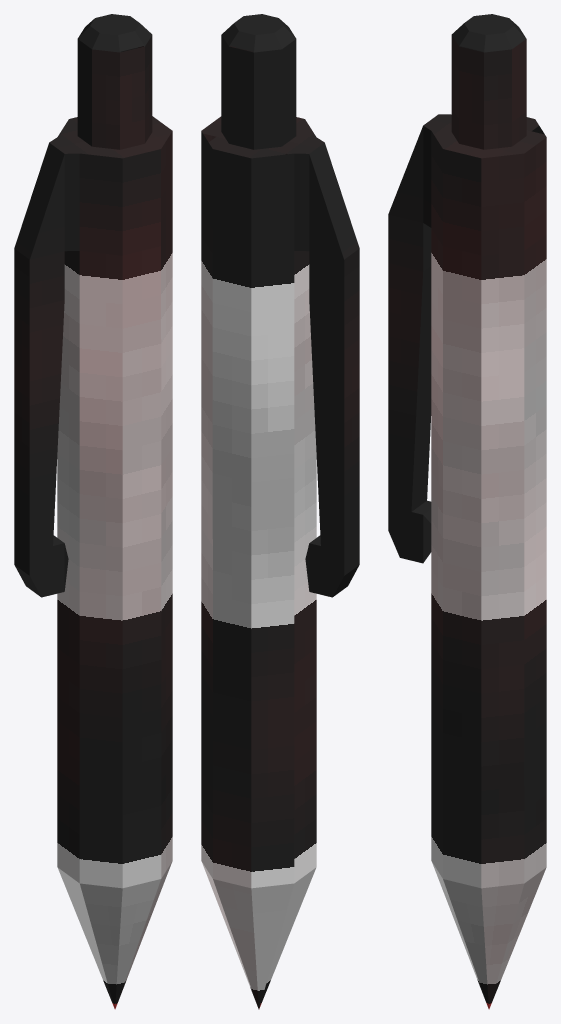
Rendered from pen.gltf.
3 views of the same model, side by side, from view 1: azimuth 30°, elevation 25°; view 2: azimuth 150°, elevation 25°; view 3: azimuth 330°, elevation 25° (orthographic).
Visible parts, largest first — view 1: circle; view 2: circle; view 3: circle.
Part boxes in pixels (x1,y1,x2,y2): circle: (14,14,172,1009); circle: (201,14,359,1009); circle: (388,14,546,1009).
Size of the model in its own units: 0.1875 by 1.27 by 0.1251.
1 material, 1 textured.
